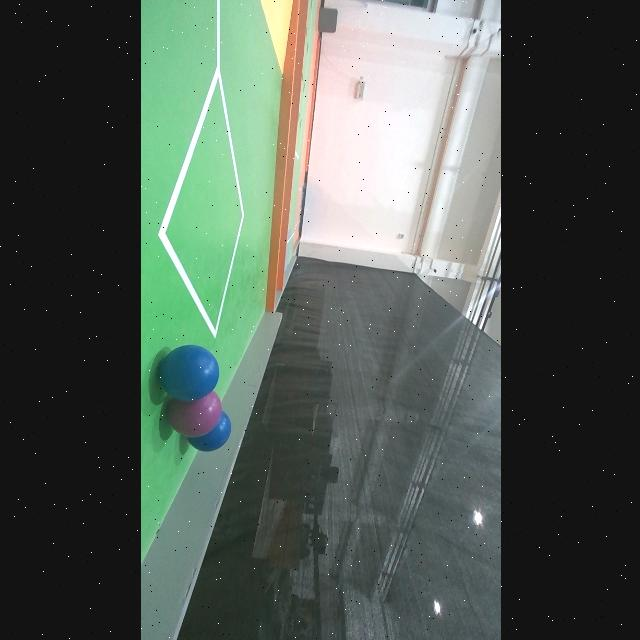B: (158, 344, 218, 402), (186, 408, 230, 452)
P: (204, 418, 213, 432)
